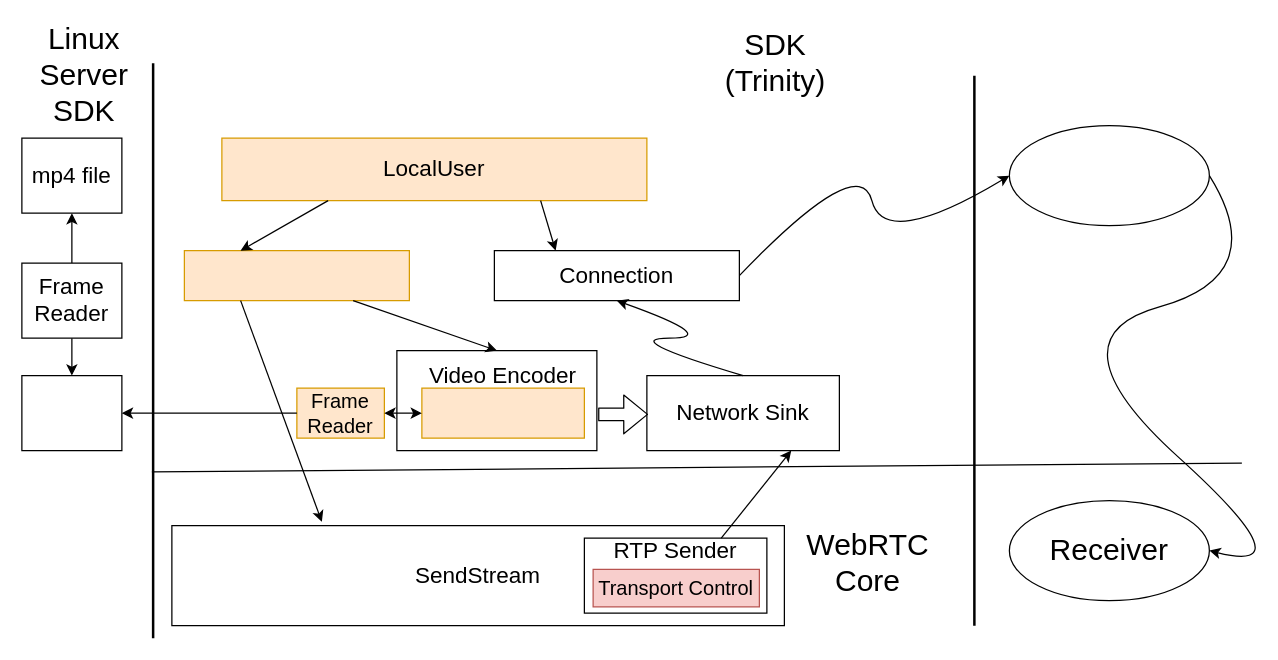
Image size: 1278x660. Some labels were removed from this diagram. The centre of each missing label's shape, as x and y in pixels:
"Fake Encoder" goes at point 502,412.
"Frame Queue" goes at point 71,412.
"LocalVideoTrack" goes at point 296,275.
"SD-RTN" goes at point 1108,175.
